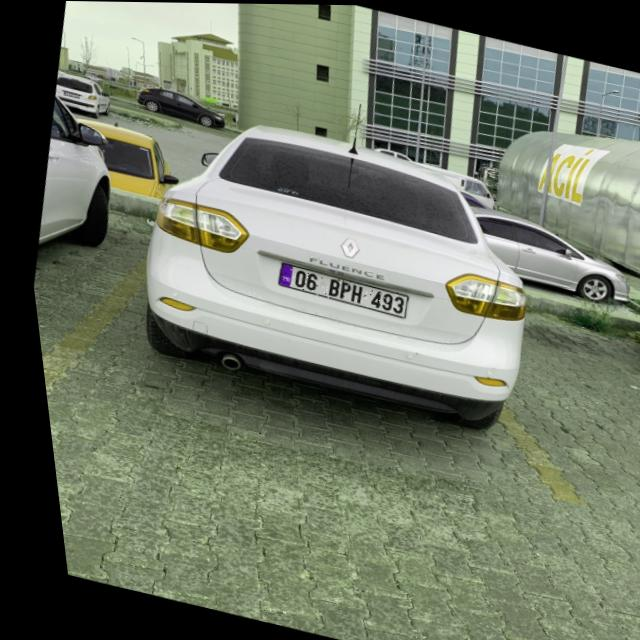license_plate: (271, 264, 401, 314)
